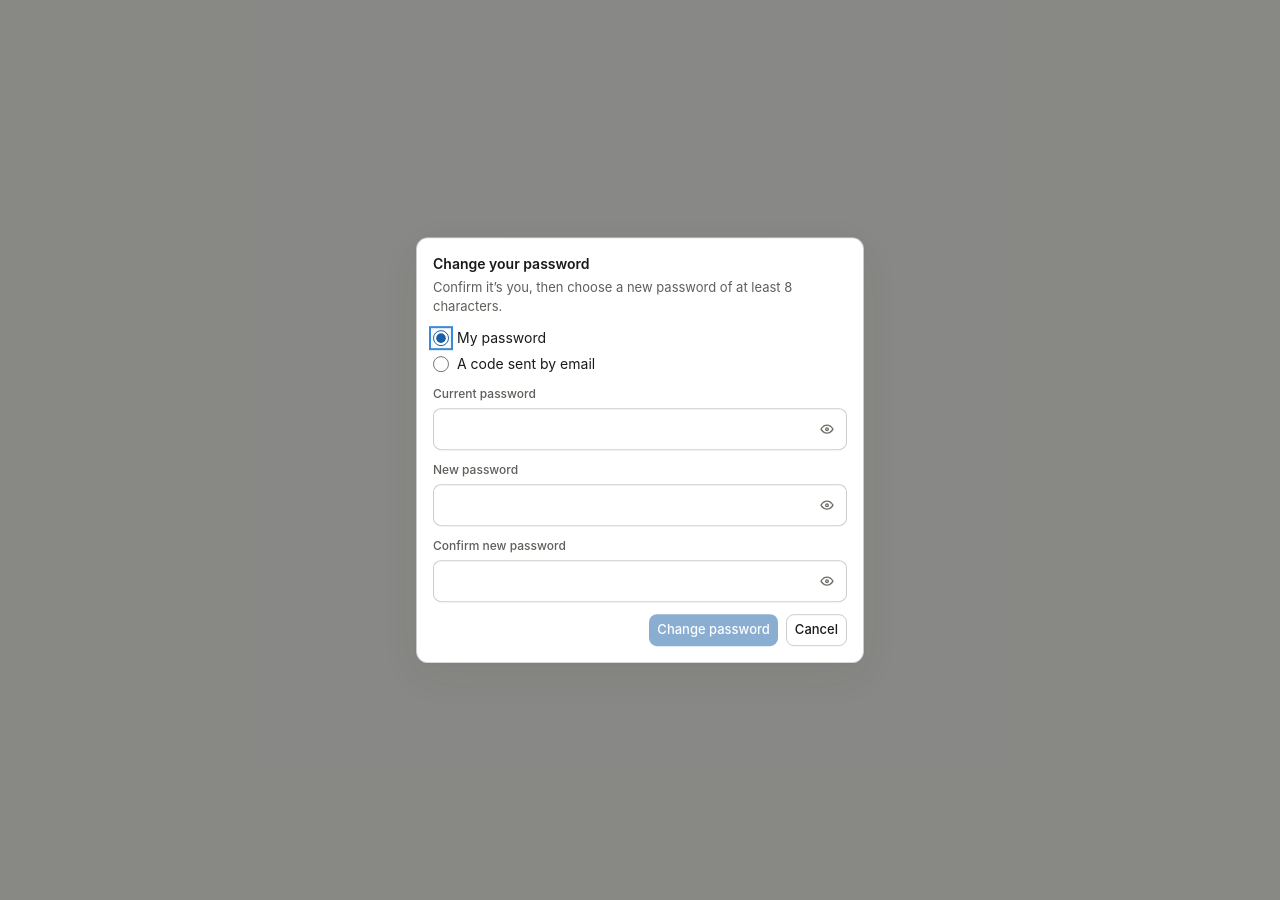
it: ChangePasswordDialog › keeps the submit button disabled until a current password is typed
Check: the dialog "Change your password" is shown, box [416,237,864,663]
Check: the button "Change password" is disabled, box [649,614,778,646]
Type "old-password" into the password field labelled "Current password". click: {"x": 640, "y": 429}
box: [433,408,847,450]
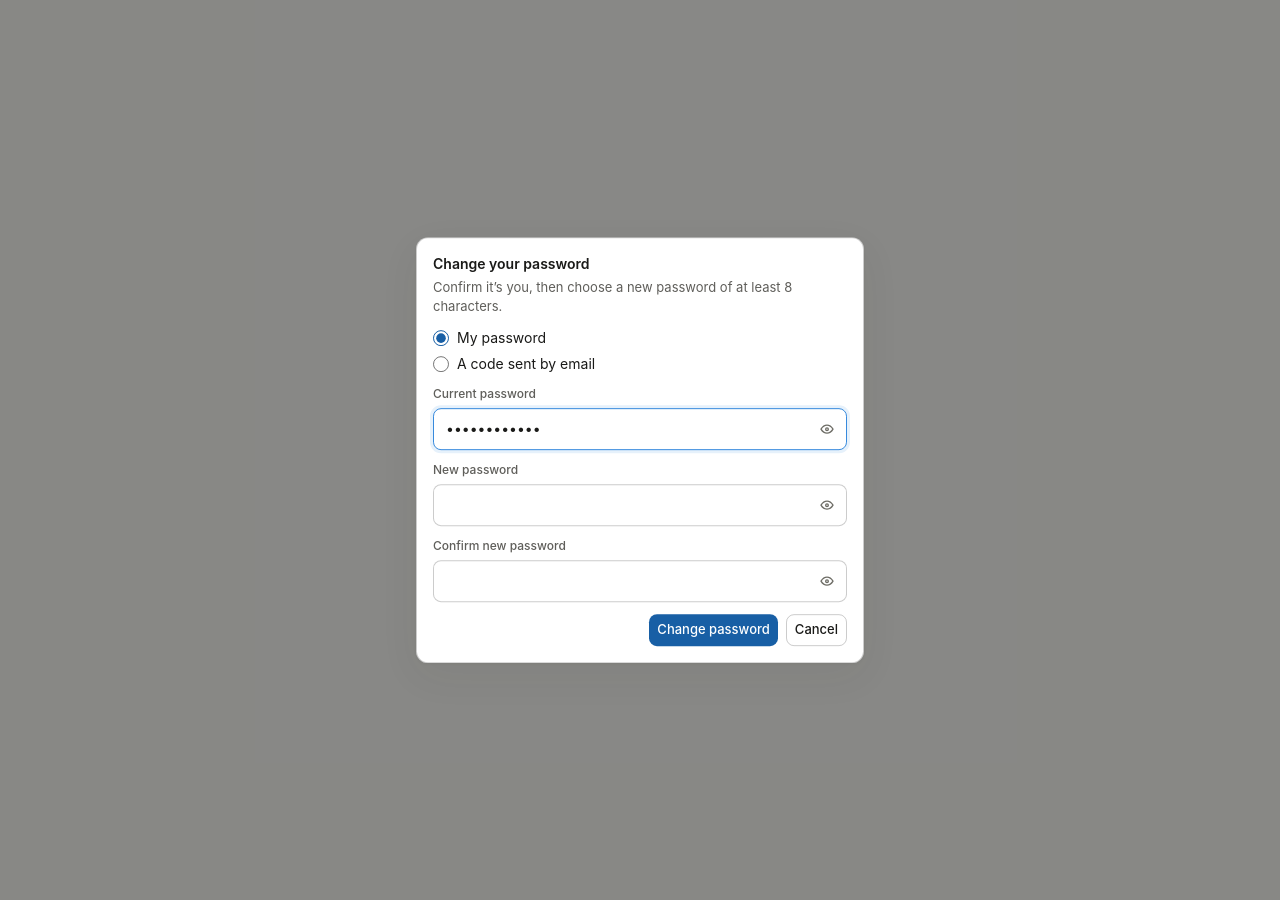
Check: the button "Change password" is enabled, box [649,614,778,646]
